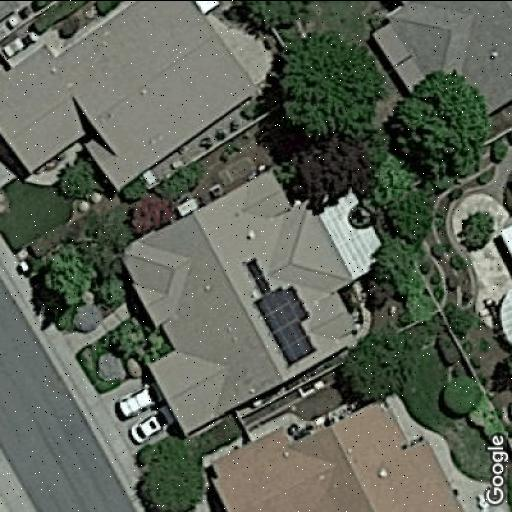solar-panel: (245, 252, 318, 366)
